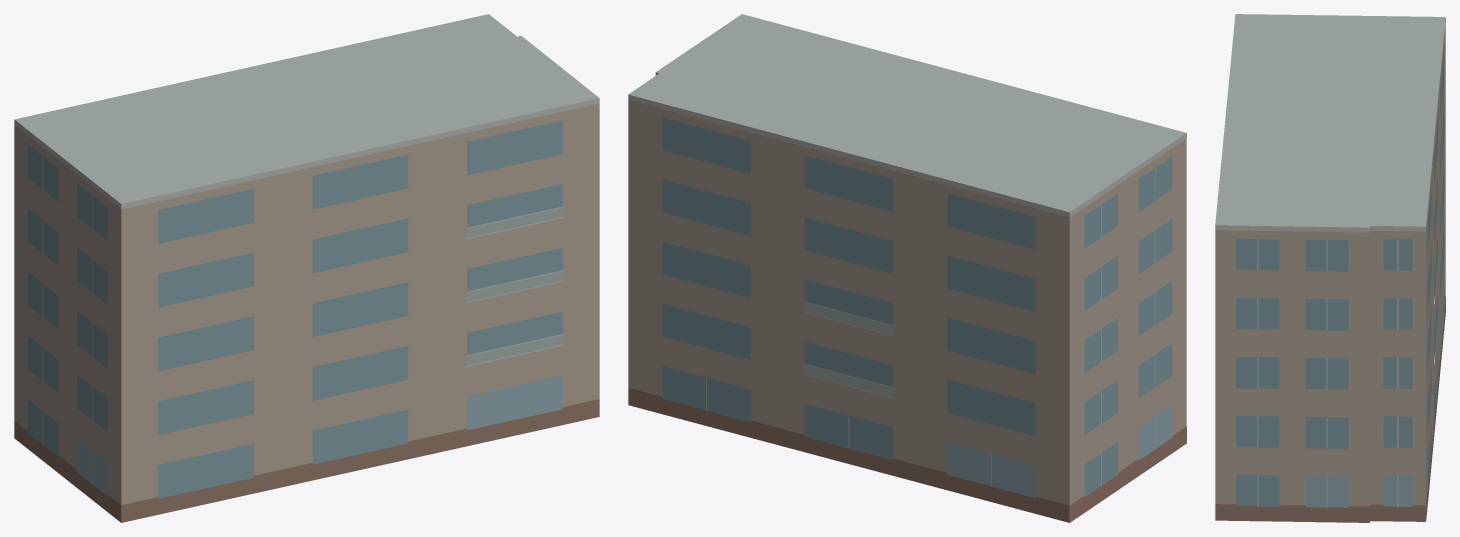
File: survey-upis-32652752.glb
3 views of the same model, side by side, from view 1: azimuth 30°, elevation 25°; view 2: azimuth 150°, elevation 25°; view 3: azimuth 270°, elevation 25° (orthographic). The views are drawn at different scales.
Parts seen in each view (by area): view 1: survey-upis-32652752.tmp; view 2: survey-upis-32652752.tmp; view 3: survey-upis-32652752.tmp.
Part boxes in pixels (left/top/right/bottom): survey-upis-32652752.tmp: left=14, top=14, right=599, bottom=522; survey-upis-32652752.tmp: left=628, top=14, right=1186, bottom=522; survey-upis-32652752.tmp: left=1215, top=14, right=1445, bottom=522.
Bounding box in the file's own units: 22.35 × 14.4 × 10.2.
